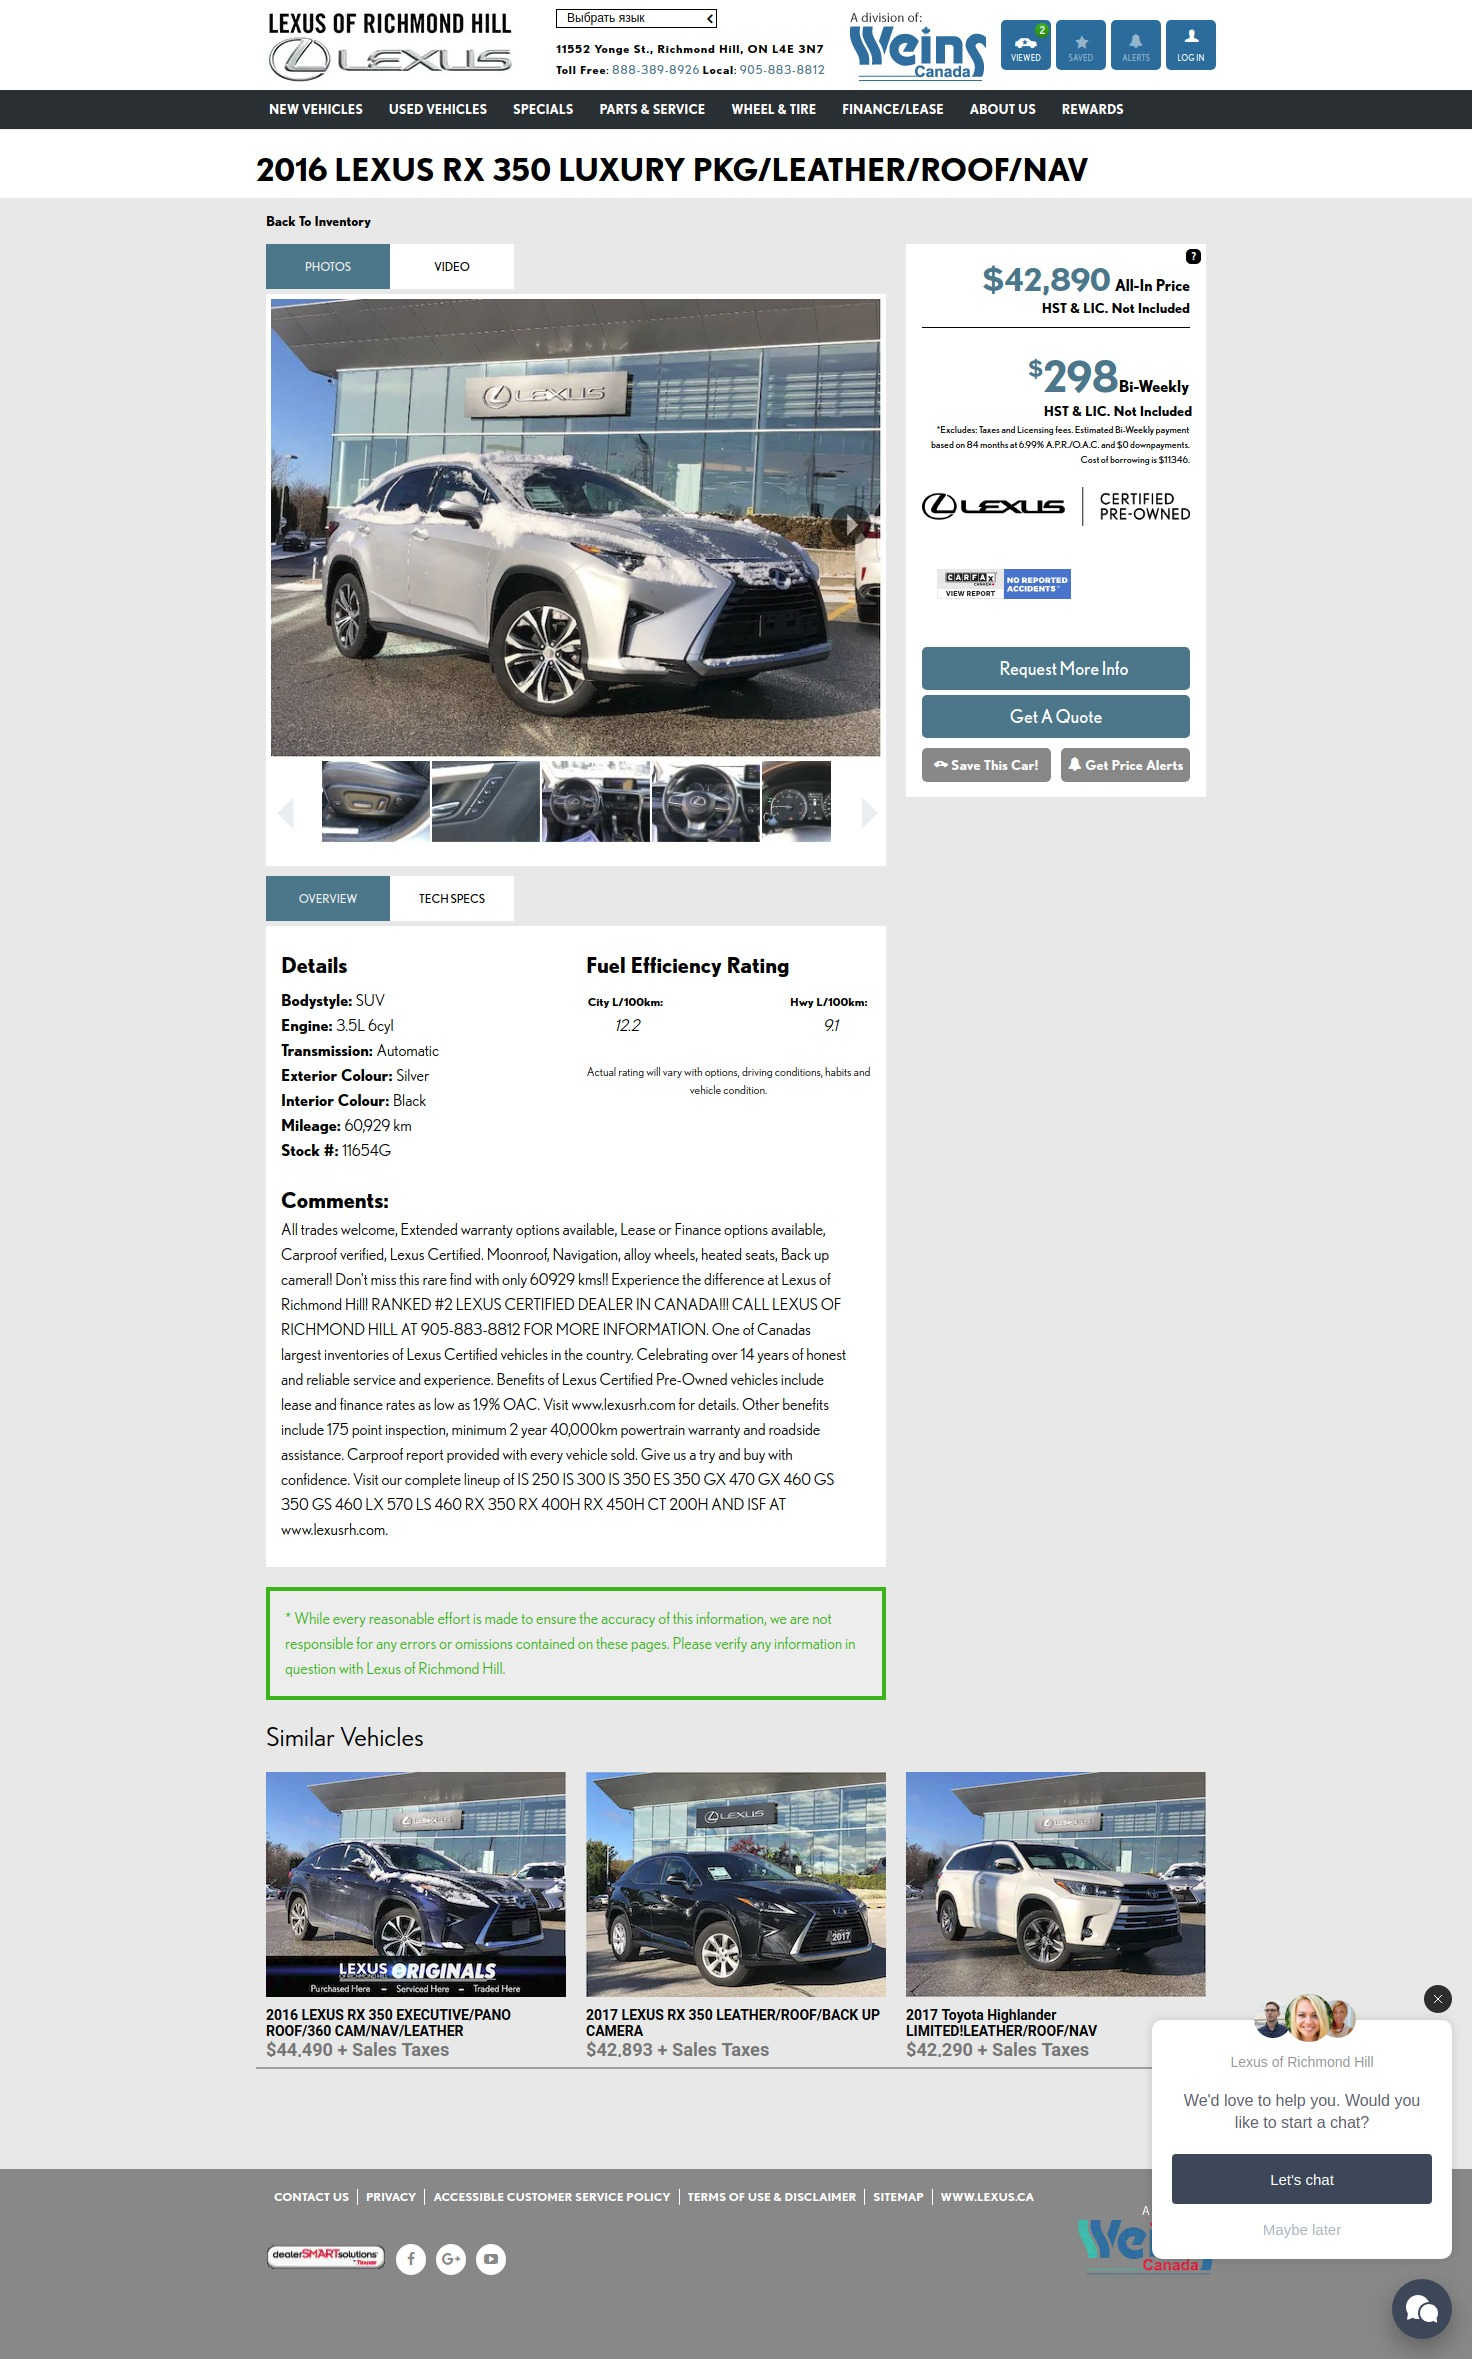car: (861, 797, 880, 831)
